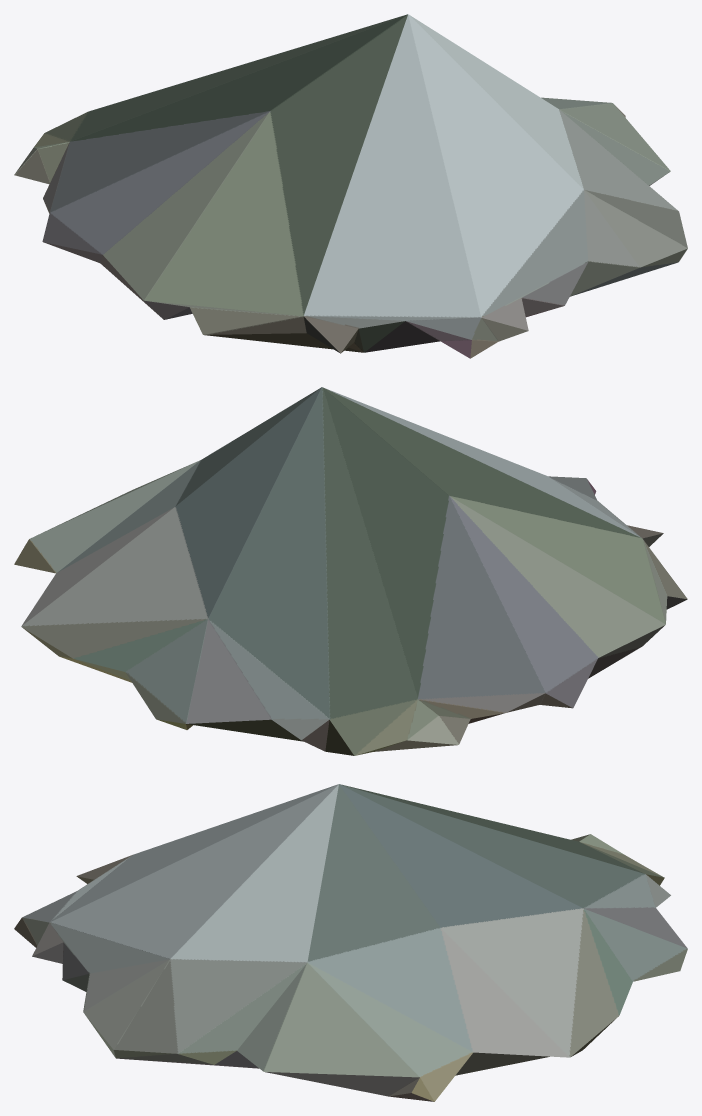
Rendered from ash.fbx.
3 views of the same model, one above another, from view 1: azimuth 30°, elevation 25°; view 2: azimuth 150°, elevation 25°; view 3: azimuth 270°, elevation 25° (orthographic). The views are drawn at different scales.
Parts seen in each view (by area): view 1: Mesh_0; view 2: Mesh_0; view 3: Mesh_0.
Boxes of the visible parts, x1,y1,x2,y2 form: Mesh_0: [14, 14, 687, 358]; Mesh_0: [14, 387, 687, 755]; Mesh_0: [14, 784, 687, 1101].
Bounding box in the file's own units: 112 × 45.98 × 119.
Materials: 1 (1 with a texture image).
